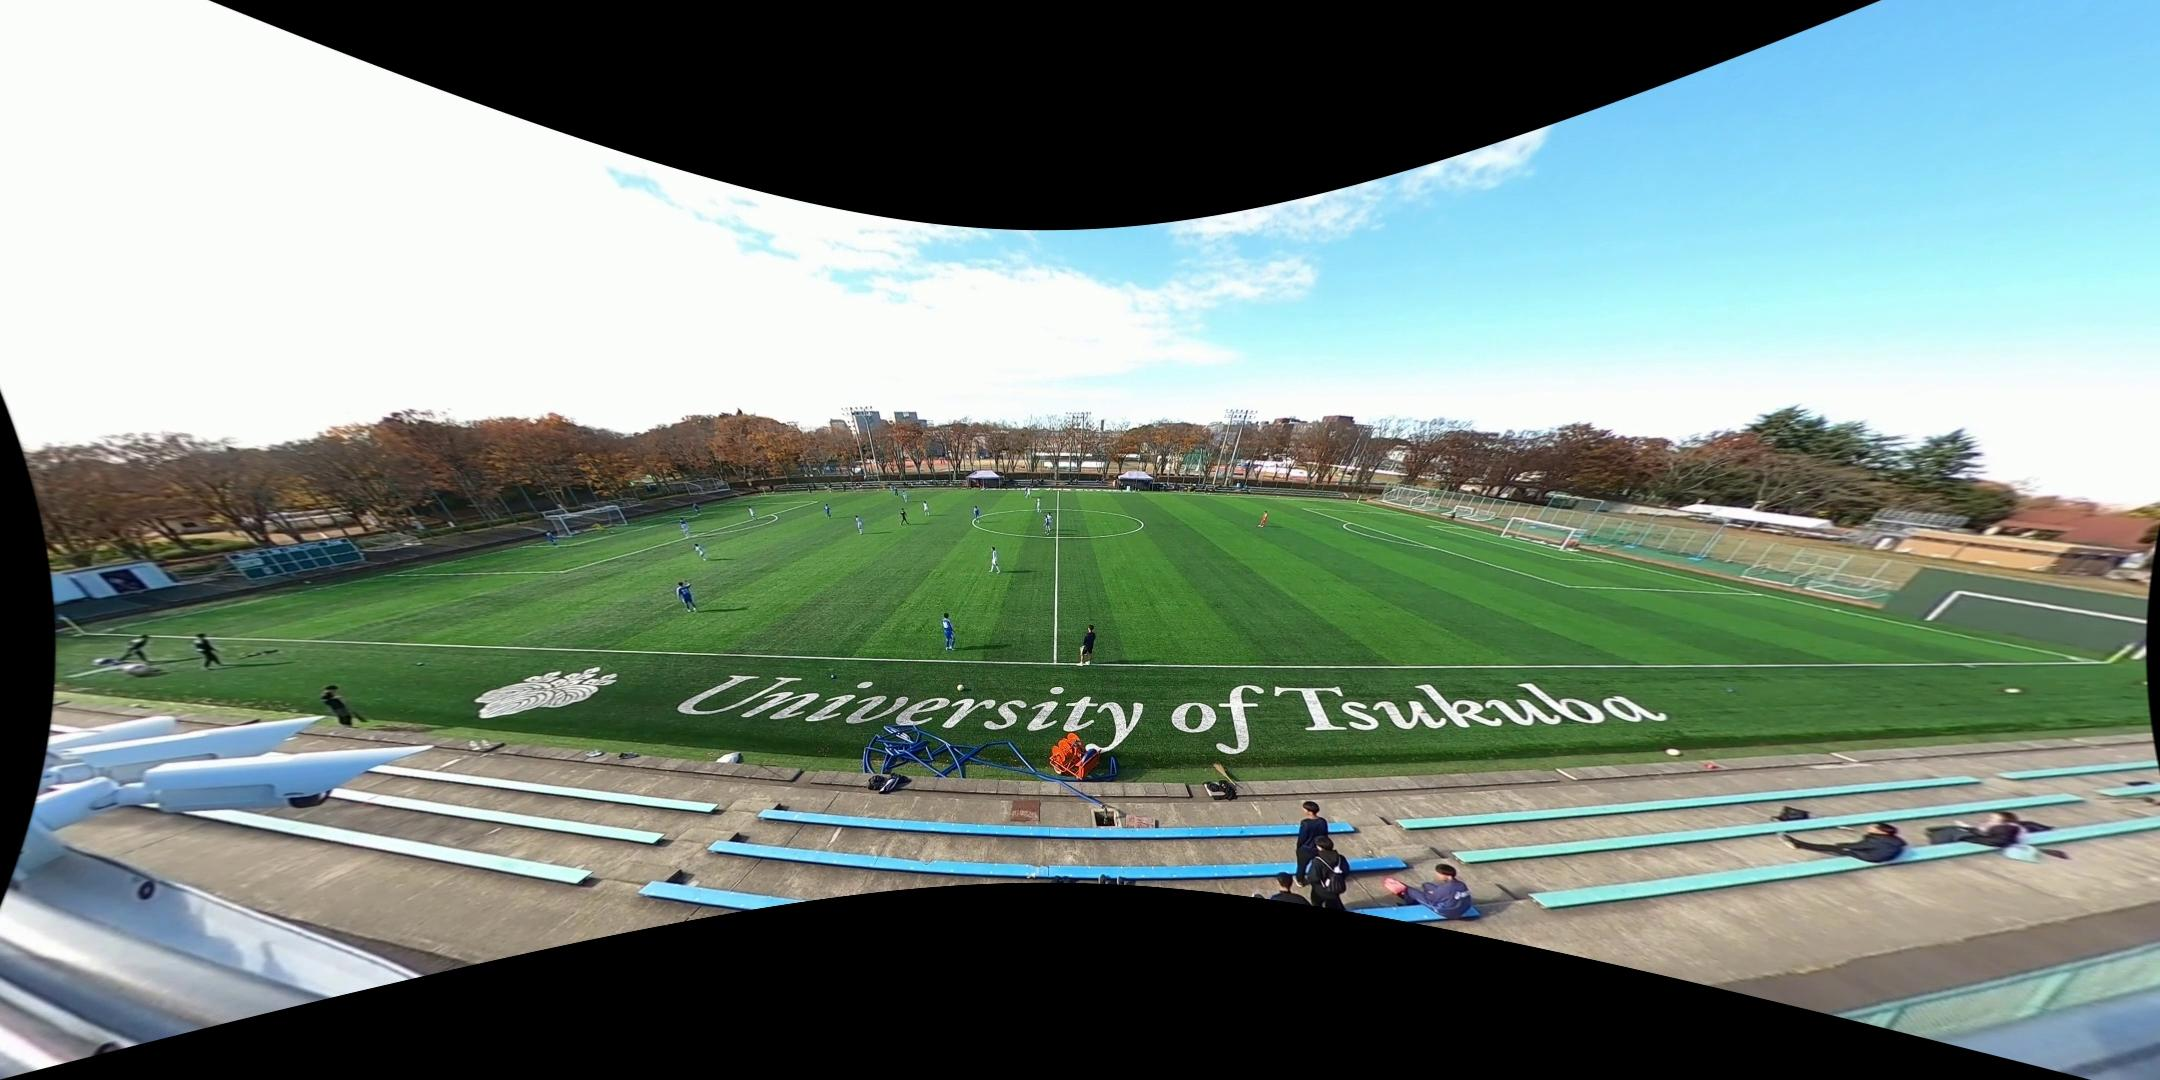person: (1078, 624, 1095, 666), (676, 579, 697, 613), (943, 612, 957, 649), (989, 547, 1001, 573), (591, 520, 609, 536), (694, 542, 707, 563), (678, 517, 691, 536), (854, 514, 865, 535), (680, 522, 692, 539), (898, 508, 910, 525), (546, 530, 557, 548), (1045, 512, 1054, 532), (1258, 510, 1268, 528), (922, 500, 932, 517), (823, 503, 833, 519), (692, 502, 702, 517), (972, 505, 980, 523), (1044, 515, 1051, 535), (748, 506, 757, 521), (1036, 497, 1043, 513), (902, 490, 909, 505), (892, 484, 899, 498), (1026, 486, 1032, 498), (1025, 486, 1030, 498)
sports ball: (2002, 681, 2028, 702), (1665, 743, 1683, 759), (955, 682, 967, 692)
